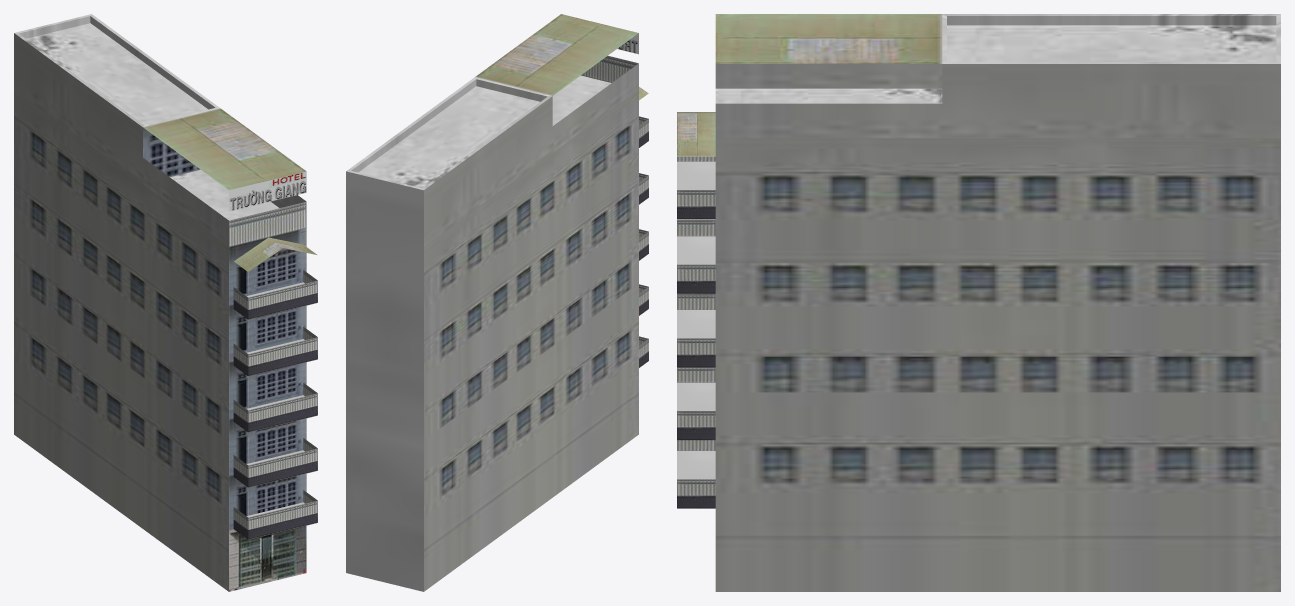
3 renders of one model, left to right at view 1: azimuth 30°, elevation 25°; view 2: azimuth 150°, elevation 25°; view 3: azimuth 270°, elevation 25°, orthographic. The views are drawn at different scales.
Visible parts, largest first — view 1: 5db007e95bb8830f98dcff33.001; view 2: 5db007e95bb8830f98dcff33.001; view 3: 5db007e95bb8830f98dcff33.001.
Boxes of the visible parts, x1,y1,x2,y2 form: 5db007e95bb8830f98dcff33.001: (14,14,317,591); 5db007e95bb8830f98dcff33.001: (346,14,648,591); 5db007e95bb8830f98dcff33.001: (677,14,1280,591).
Size of the model in its own units: 5.02 by 24.8 by 25.7.
1 material, 1 textured.
